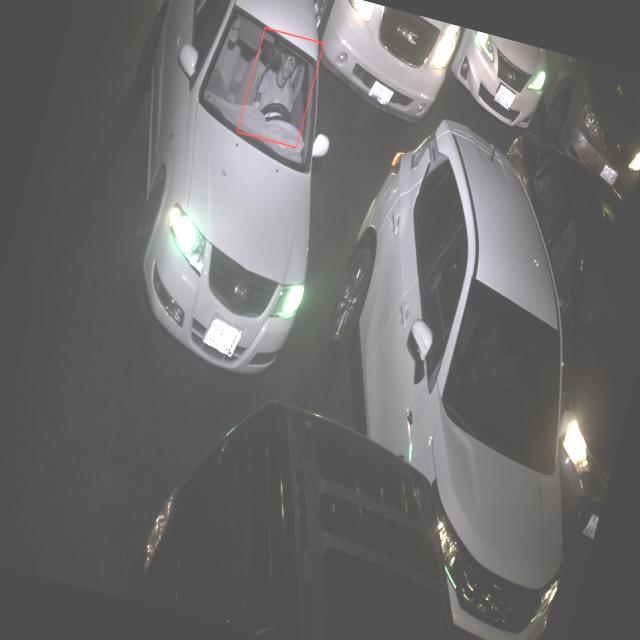windshield: (185, 3, 328, 173)
